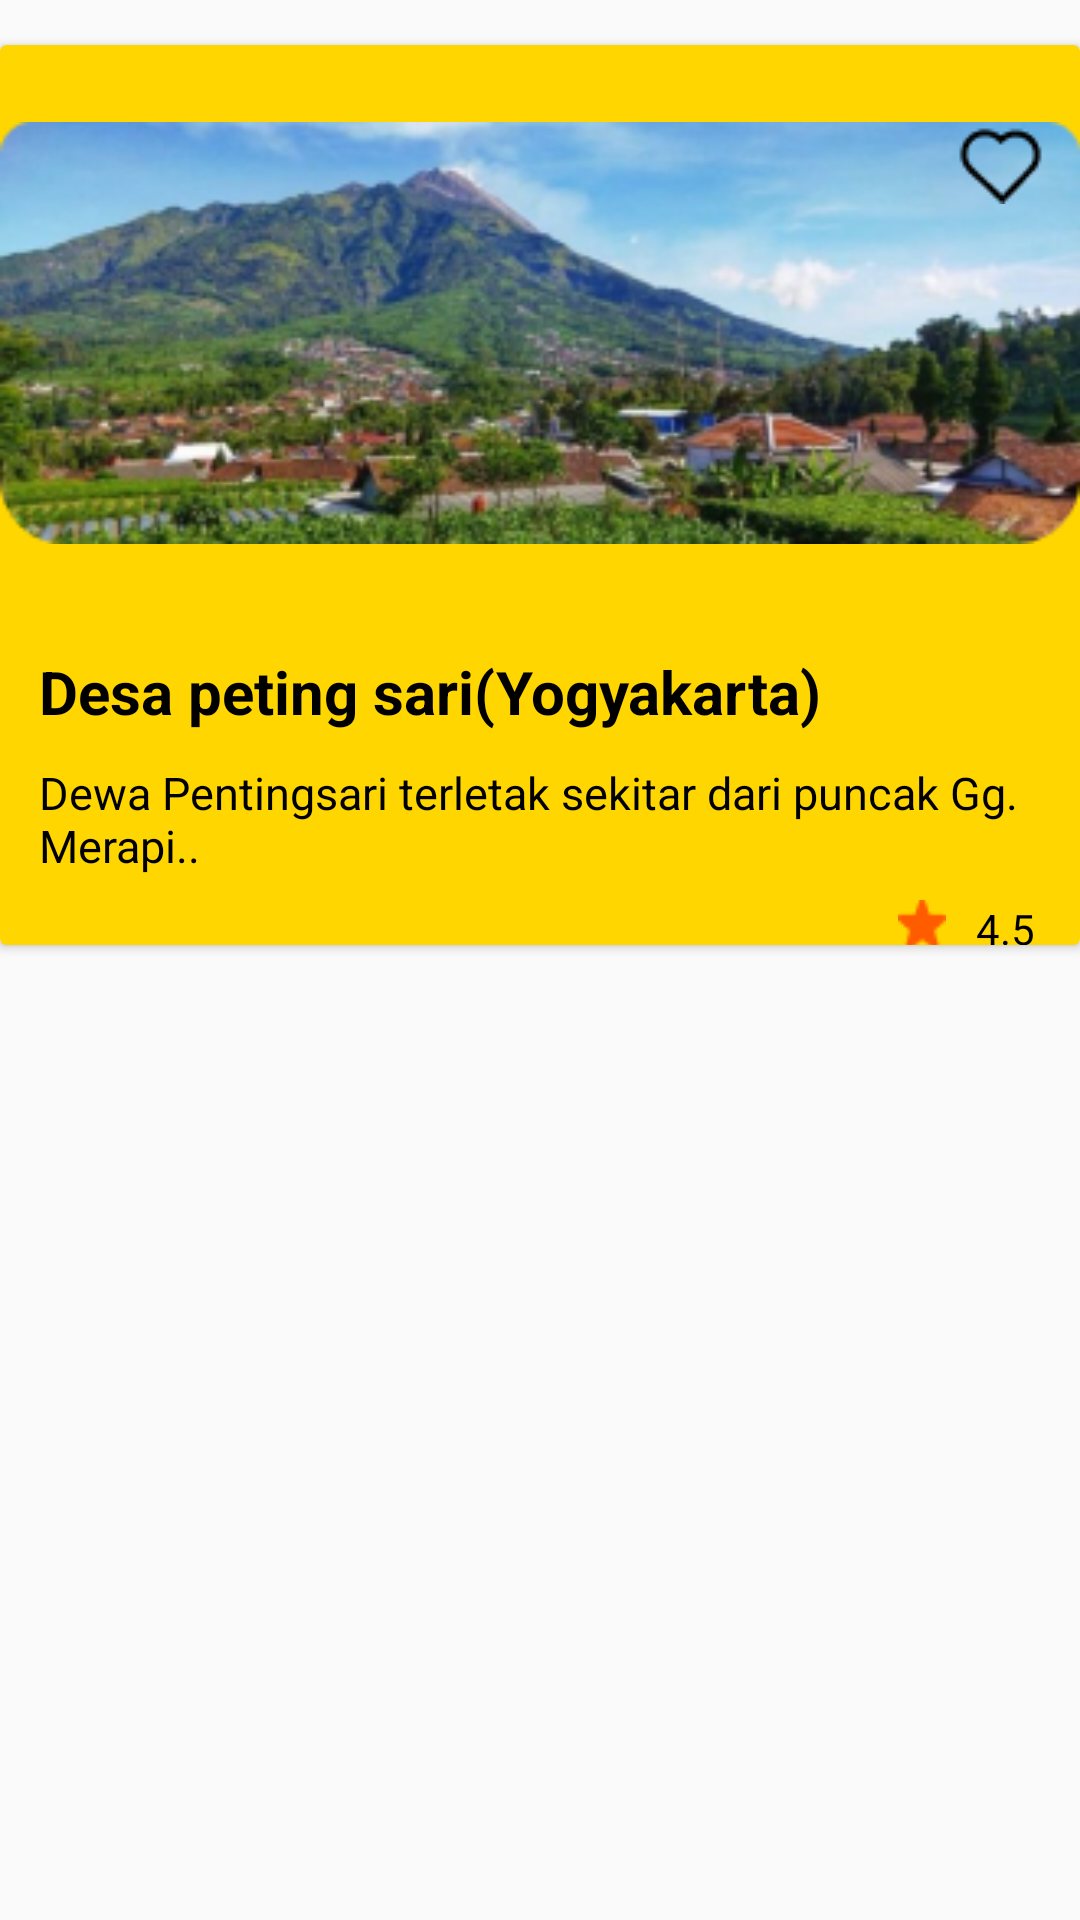

Where to tap for icons on this 1080 x 1920 app screen, as point (x, y):
like: point (1000, 154)
star: point (922, 922)
